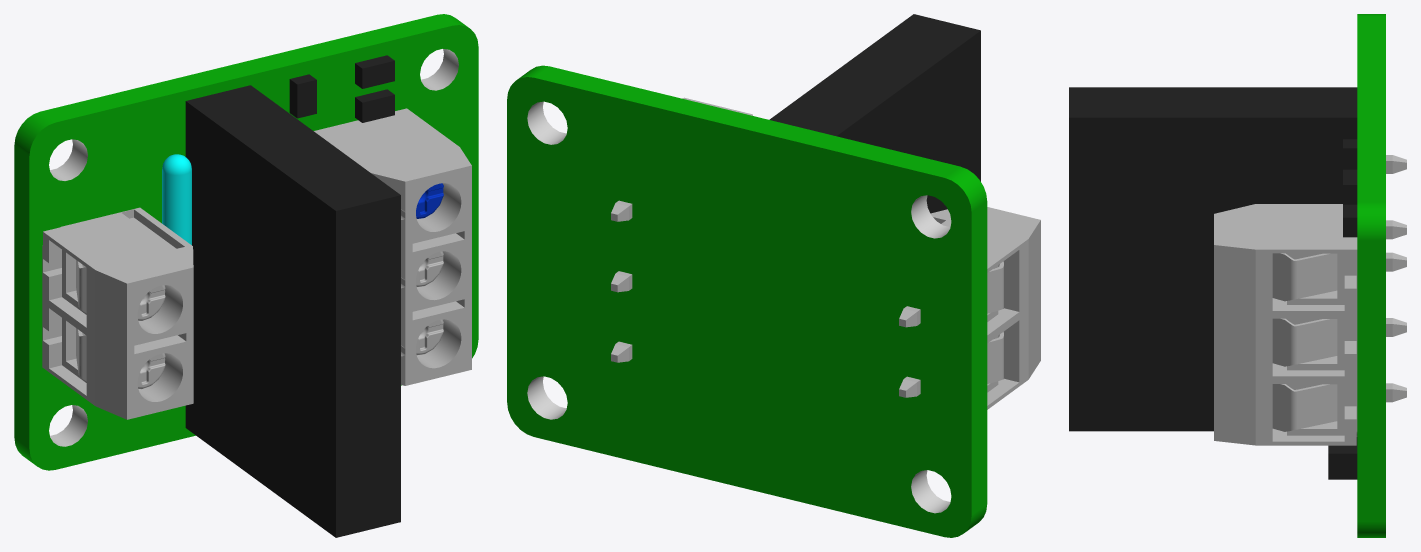
Rendered from SSR module OMRON G3MB-202P.obj.
The picture shows the model from 3 angles, left to right: view 1: azimuth 30°, elevation 25°; view 2: azimuth 150°, elevation 25°; view 3: azimuth 270°, elevation 25°; orthographic projection. The views are drawn at different scales.
Visible parts, largest first — view 1: Solid1:1, Solid1:3, Solid1:5, Solid1, Solid1:4, Solid1:2, Solid1:7, Solid1:6, Solid1:8; view 2: Solid1:1, Solid1:3, Solid1:5; view 3: Solid1:1, Solid1:5, Solid1:3.
Boxes of the visible parts, x1=… form: Solid1:1: x1=14, y1=14, x2=478, y2=537; Solid1:3: x1=42, y1=207, x2=193, y2=419; Solid1:5: x1=314, y1=108, x2=471, y2=385; Solid1: x1=162, y1=154, x2=191, y2=244; Solid1:4: x1=137, y1=353, x2=165, y2=389; Solid1:2: x1=137, y1=285, x2=165, y2=320; Solid1:7: x1=416, y1=183, x2=443, y2=218; Solid1:6: x1=416, y1=319, x2=443, y2=355; Solid1:8: x1=416, y1=251, x2=443, y2=286; Solid1:1: x1=507, y1=14, x2=987, y2=537; Solid1:3: x1=899, y1=207, x2=1040, y2=409; Solid1:5: x1=611, y1=97, x2=752, y2=362; Solid1:1: x1=1069, y1=14, x2=1385, y2=537; Solid1:5: x1=1214, y1=204, x2=1406, y2=445; Solid1:3: x1=1386, y1=155, x2=1406, y2=239.
Size of the model in its own units: 34.5 by 25.5 by 23.45.
